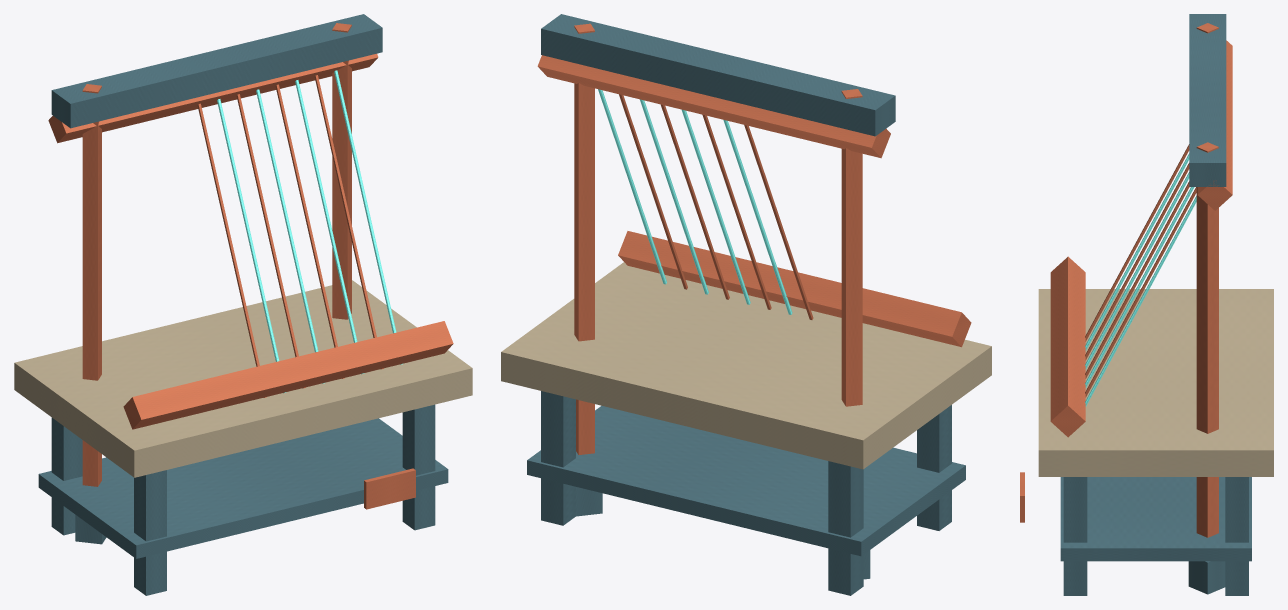
The model's file is atlas100-s041-a02.lod2.glb.
3 views of the same model, side by side, from view 1: azimuth 30°, elevation 25°; view 2: azimuth 150°, elevation 25°; view 3: azimuth 270°, elevation 25° (orthographic). The views are drawn at different scales.
Parts seen in each view (by area): view 1: atlas100-s041-a02:part-004, atlas100-s041-a02:part-005, atlas100-s041-a02:part-010, atlas100-s041-a02:part-024, atlas100-s041-a02:part-006, atlas100-s041-a02:part-008, atlas100-s041-a02:part-025, atlas100-s041-a02:part-001, atlas100-s041-a02:part-003, atlas100-s041-a02:part-000, atlas100-s041-a02:part-026, atlas100-s041-a02:part-018 (+7 smaller); view 2: atlas100-s041-a02:part-004, atlas100-s041-a02:part-005, atlas100-s041-a02:part-010, atlas100-s041-a02:part-024, atlas100-s041-a02:part-025, atlas100-s041-a02:part-008, atlas100-s041-a02:part-006, atlas100-s041-a02:part-000, atlas100-s041-a02:part-002, atlas100-s041-a02:part-001, atlas100-s041-a02:part-017, atlas100-s041-a02:part-019 (+7 smaller); view 3: atlas100-s041-a02:part-004, atlas100-s041-a02:part-005, atlas100-s041-a02:part-008, atlas100-s041-a02:part-010, atlas100-s041-a02:part-024, atlas100-s041-a02:part-003, atlas100-s041-a02:part-002, atlas100-s041-a02:part-025, atlas100-s041-a02:part-009, atlas100-s041-a02:part-023, atlas100-s041-a02:part-022, atlas100-s041-a02:part-021 (+5 smaller).
Part boxes in pixels (<box>): atlas100-s041-a02:part-004: <box>14,280,472,477</box>; atlas100-s041-a02:part-005: <box>38,418,448,558</box>; atlas100-s041-a02:part-010: <box>51,14,382,128</box>; atlas100-s041-a02:part-024: <box>123,321,453,429</box>; atlas100-s041-a02:part-006: <box>82,84,101,486</box>; atlas100-s041-a02:part-008: <box>332,23,351,319</box>; atlas100-s041-a02:part-025: <box>48,53,378,143</box>; atlas100-s041-a02:part-001: <box>134,470,166,595</box>; atlas100-s041-a02:part-003: <box>402,404,435,530</box>; atlas100-s041-a02:part-000: <box>51,417,82,535</box>; atlas100-s041-a02:part-026: <box>364,468,415,509</box>; atlas100-s041-a02:part-018: <box>236,94,305,388</box>; atlas100-s041-a02:part-004: <box>501,262,991,469</box>; atlas100-s041-a02:part-005: <box>527,405,965,556</box>; atlas100-s041-a02:part-010: <box>541,14,895,136</box>; atlas100-s041-a02:part-024: <box>618,231,971,347</box>; atlas100-s041-a02:part-025: <box>537,55,890,158</box>; atlas100-s041-a02:part-008: <box>574,23,594,454</box>; atlas100-s041-a02:part-006: <box>841,89,862,406</box>; atlas100-s041-a02:part-000: <box>828,461,863,595</box>; atlas100-s041-a02:part-002: <box>541,391,575,525</box>; atlas100-s041-a02:part-001: <box>917,405,951,530</box>; atlas100-s041-a02:part-017: <box>723,120,792,314</box>; atlas100-s041-a02:part-019: <box>681,109,750,304</box>; atlas100-s041-a02:part-004: <box>1038,289,1273,476</box>; atlas100-s041-a02:part-005: <box>1060,477,1251,561</box>; atlas100-s041-a02:part-008: <box>1196,142,1218,537</box>; atlas100-s041-a02:part-010: <box>1189,14,1226,186</box>; atlas100-s041-a02:part-024: <box>1050,256,1085,437</box>; atlas100-s041-a02:part-003: <box>1063,477,1087,595</box>; atlas100-s041-a02:part-002: <box>1225,477,1248,595</box>; atlas100-s041-a02:part-025: <box>1197,40,1232,210</box>; atlas100-s041-a02:part-009: <box>1188,561,1225,594</box>; atlas100-s041-a02:part-023: <box>1085,196,1196,406</box>; atlas100-s041-a02:part-022: <box>1085,187,1196,397</box>; atlas100-s041-a02:part-021: <box>1085,187,1194,387</box>.
Size of the model in its own units: 2.6 by 3.3 by 1.73.
Materials: 4 (4 with a texture image).
